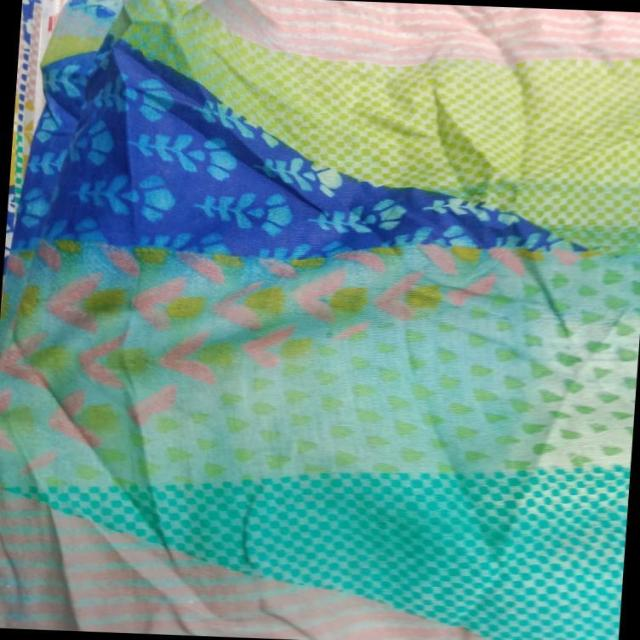color issues: (0, 198, 640, 562)
